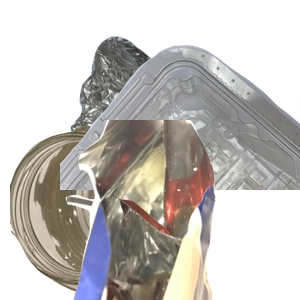glass: (10, 126, 216, 300)
metal: (68, 34, 300, 214)
plastic: (60, 43, 300, 223)
trash: (63, 120, 300, 300)
